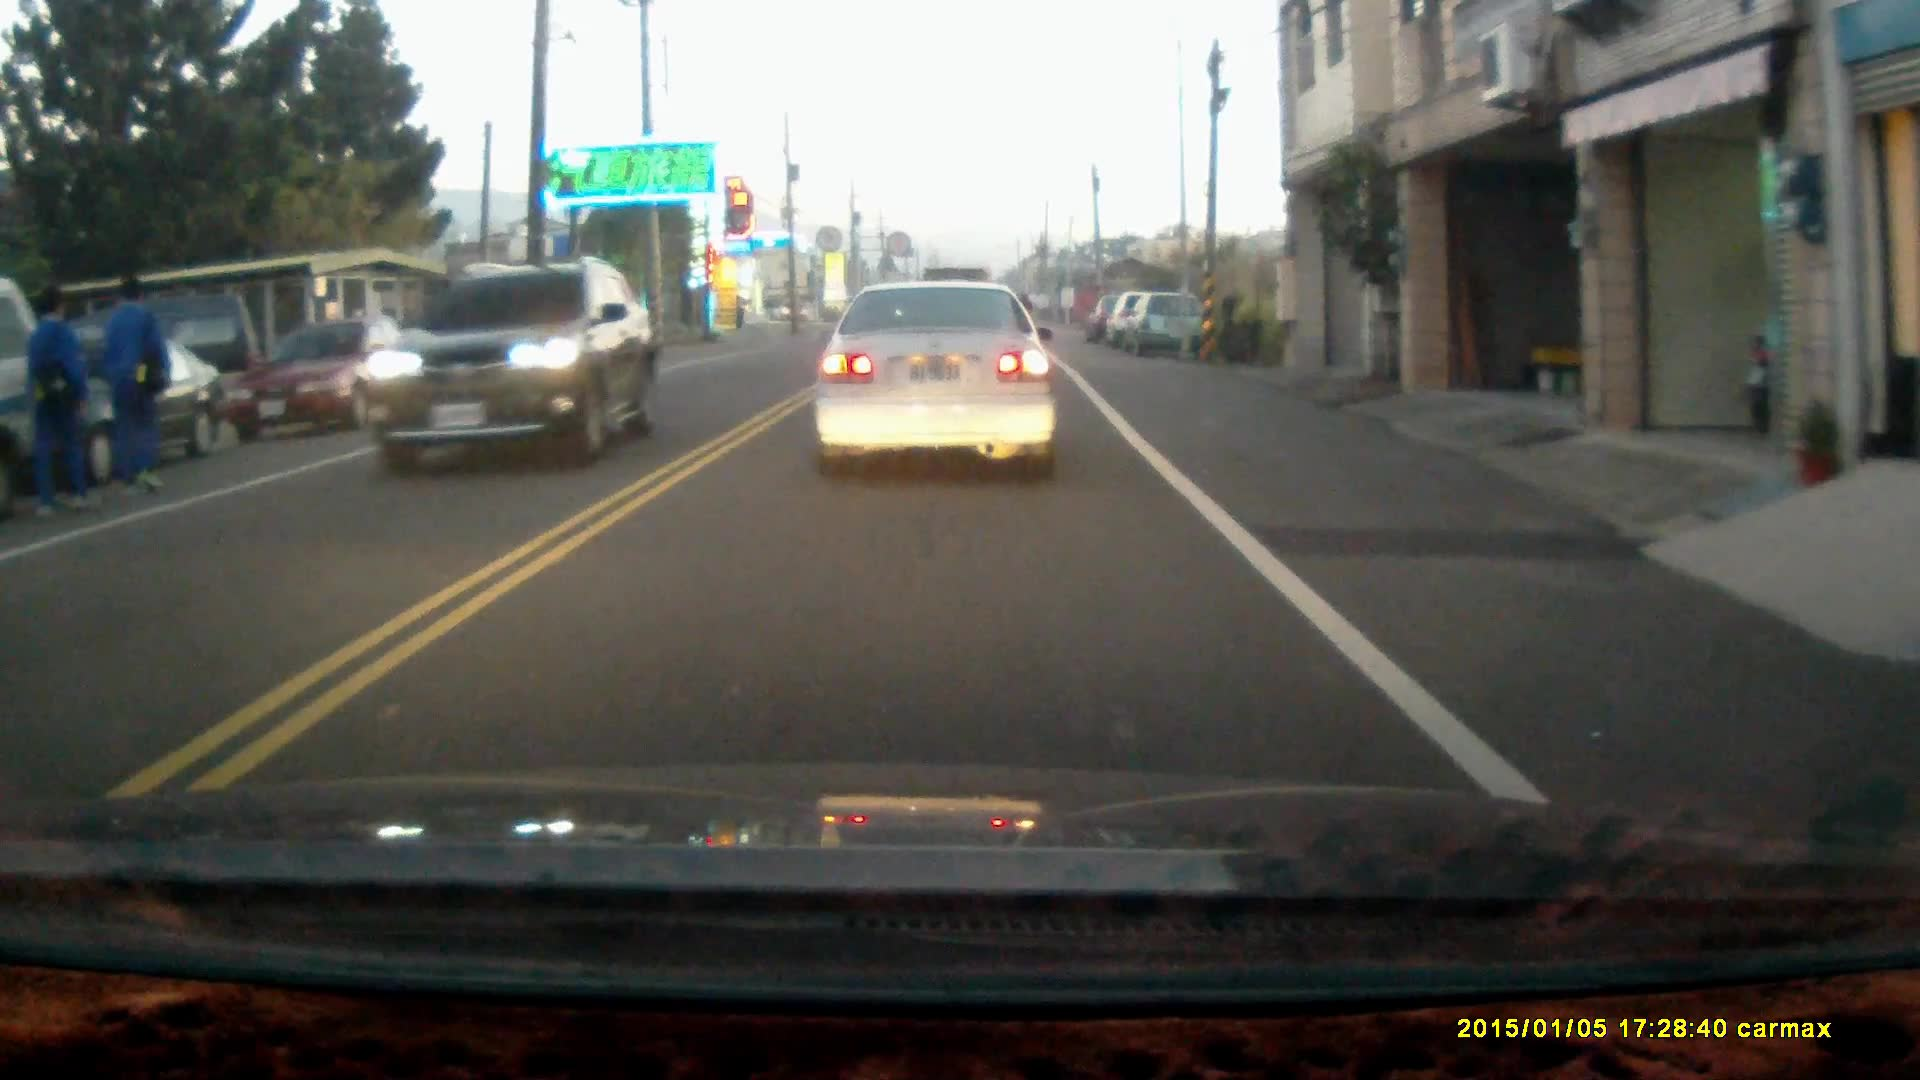pedestrian: (98, 276, 173, 500), (20, 284, 85, 518)
vehicle: (368, 261, 661, 472), (808, 280, 1063, 484), (6, 326, 238, 490), (244, 315, 427, 447), (1, 281, 73, 517), (1120, 294, 1209, 362)
